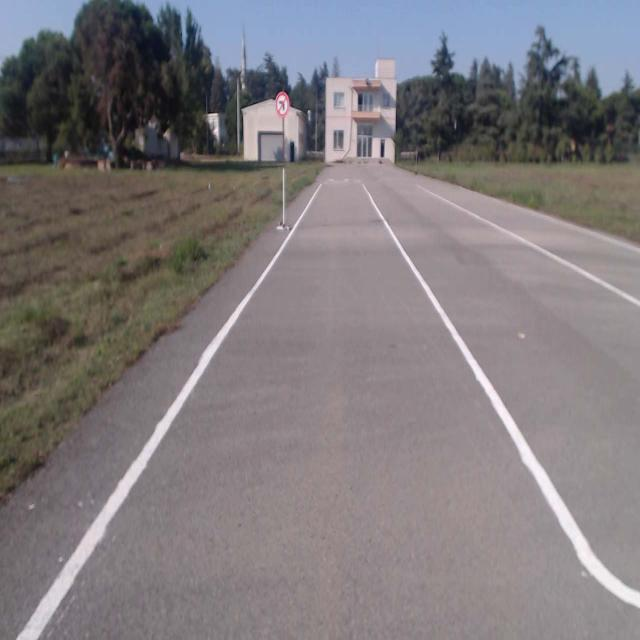soladonulmez: (275, 91, 289, 118)
